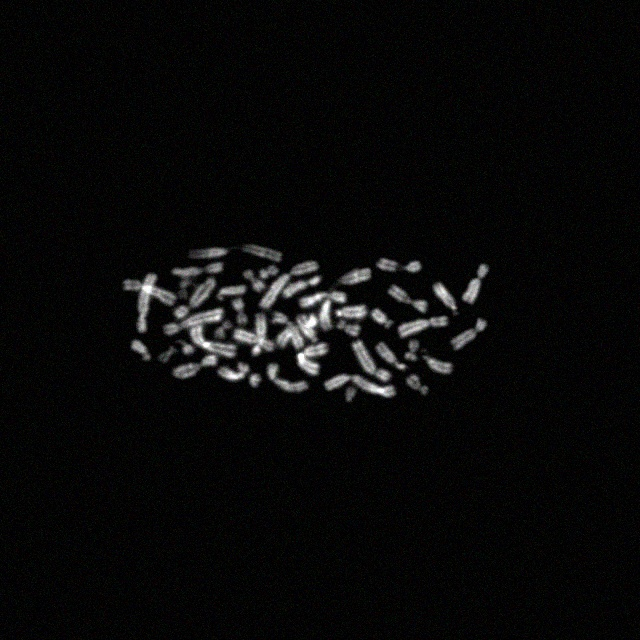chromosome: (257, 262, 318, 308), (324, 374, 394, 398), (165, 308, 222, 336), (190, 322, 236, 356), (174, 278, 213, 318), (354, 340, 391, 380), (124, 280, 176, 304), (278, 314, 316, 346), (172, 354, 215, 380), (138, 274, 157, 332), (268, 363, 306, 392), (399, 316, 448, 338), (272, 314, 303, 348), (389, 286, 427, 312), (464, 264, 488, 304), (452, 320, 486, 348), (234, 330, 274, 352), (282, 276, 320, 298), (299, 292, 347, 308), (376, 344, 406, 368), (243, 244, 282, 262), (172, 263, 222, 277), (433, 282, 455, 310), (218, 362, 248, 382), (422, 354, 452, 374), (252, 314, 266, 356), (297, 316, 317, 342), (340, 268, 372, 284), (243, 270, 265, 292), (297, 353, 319, 375), (217, 284, 247, 300), (190, 248, 228, 260), (318, 300, 332, 332), (336, 304, 366, 318), (407, 374, 428, 394), (336, 319, 360, 336), (131, 341, 151, 361), (372, 308, 392, 328), (233, 299, 247, 323), (304, 344, 328, 358), (215, 321, 233, 339), (377, 258, 397, 272), (159, 346, 176, 362), (177, 280, 189, 300), (406, 341, 418, 361), (260, 266, 278, 278), (344, 387, 356, 403), (404, 262, 420, 272), (250, 374, 260, 388), (183, 344, 193, 354)
